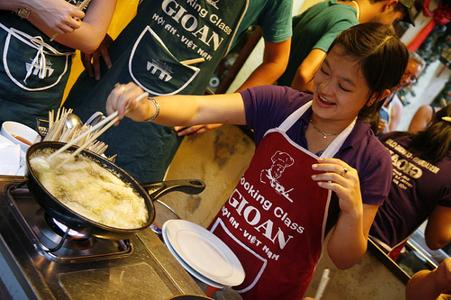person: (109, 24, 409, 300)
